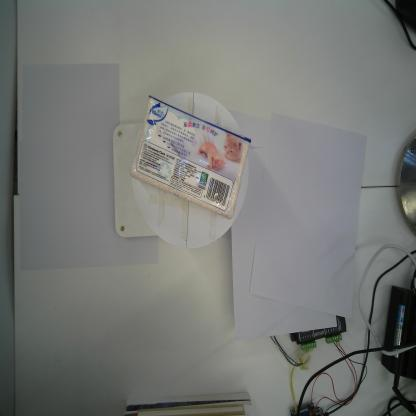Tissue: (127, 93, 253, 220)
